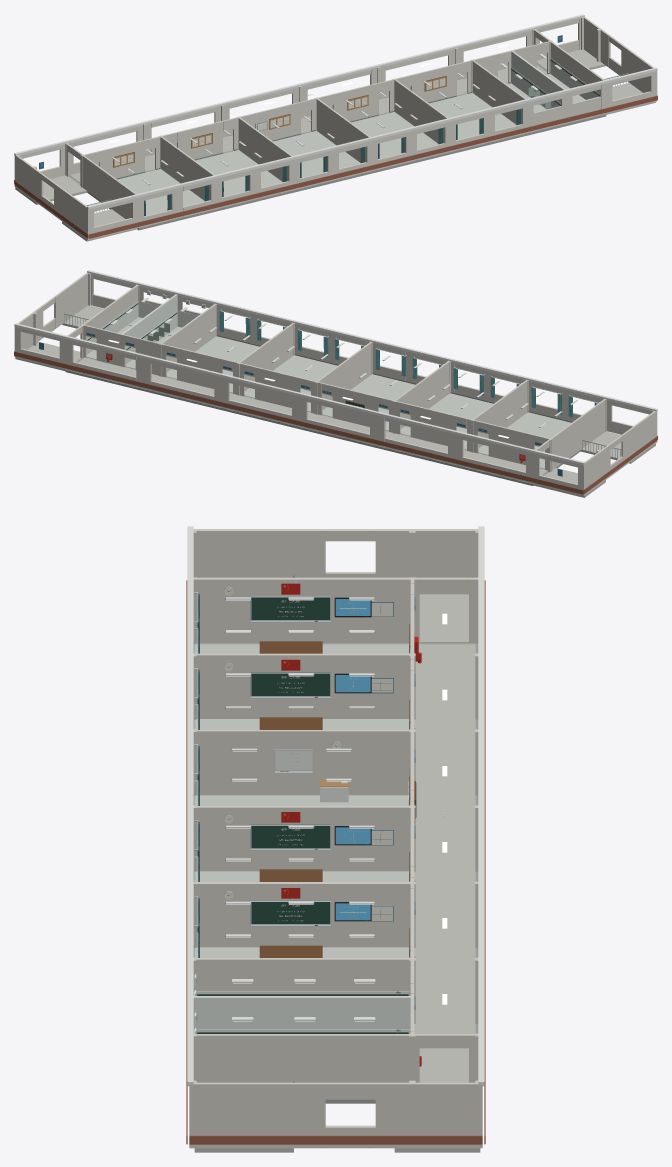
File: floor-05.glb
The picture shows the model from 3 angles, top to bottom: view 1: azimuth 30°, elevation 25°; view 2: azimuth 150°, elevation 25°; view 3: azimuth 270°, elevation 25°; orthographic projection. The views are drawn at different scales.
Visible parts, largest first — view 1: Floor_05__Plaster_WarmLimestone, Floor_05__tile_floor, Floor_05__Paint_OffWhite, Floor_05__Terracotta_FiredClay, Floor_05__terrazzo, Floor_05__tile_wall, Floor_05__Concrete_FineCast, Floor_05__Fabric_Teal, Floor_05__Paper_Cream, Floor_05__Wood_Honey, Floor_05__Paint_Slate; view 2: Floor_05__Plaster_WarmLimestone, Floor_05__tile_floor, Floor_05__Paint_OffWhite, Floor_05__terrazzo, Floor_05__Terracotta_FiredClay, Floor_05__tile_wall, Floor_05__Concrete_FineCast, Floor_05__Fabric_Teal, Floor_05__Paint_Slate, Floor_05__Blue_School; view 3: Floor_05__Plaster_WarmLimestone, Floor_05__terrazzo, Floor_05__Paint_OffWhite, Floor_05__tile_wall, Floor_05__tile_floor, Floor_05__Chalkboard_Green, Floor_05__Terracotta_FiredClay, Floor_05__Wood_Walnut, Floor_05__Metal_BrushedNickel, Floor_05__Screen_LCD, Floor_05__Paper_Cream, Floor_05__Paint_Slate (+3 smaller).
Boxes of the visible parts, left/top/right/bottom form: Floor_05__Plaster_WarmLimestone: left=14, top=17, right=657, bottom=240; Floor_05__tile_floor: left=117, top=74, right=585, bottom=215; Floor_05__Paint_OffWhite: left=14, top=14, right=657, bottom=209; Floor_05__Terracotta_FiredClay: left=14, top=95, right=657, bottom=238; Floor_05__terrazzo: left=15, top=49, right=655, bottom=241; Floor_05__tile_wall: left=511, top=50, right=599, bottom=109; Floor_05__Concrete_FineCast: left=69, top=63, right=606, bottom=230; Floor_05__Fabric_Teal: left=144, top=109, right=520, bottom=215; Floor_05__Paper_Cream: left=114, top=78, right=445, bottom=165; Floor_05__Wood_Honey: left=113, top=76, right=446, bottom=167; Floor_05__Paint_Slate: left=116, top=73, right=549, bottom=185; Floor_05__Plaster_WarmLimestone: left=14, top=272, right=657, bottom=495; Floor_05__tile_floor: left=86, top=317, right=571, bottom=468; Floor_05__Paint_OffWhite: left=14, top=270, right=657, bottom=465; Floor_05__terrazzo: left=15, top=305, right=655, bottom=497; Floor_05__Terracotta_FiredClay: left=14, top=351, right=657, bottom=494; Floor_05__tile_wall: left=86, top=294, right=198, bottom=364; Floor_05__Concrete_FineCast: left=65, top=357, right=580, bottom=485; Floor_05__Fabric_Teal: left=219, top=311, right=597, bottom=417; Floor_05__Paint_Slate: left=86, top=292, right=572, bottom=452; Floor_05__Blue_School: left=39, top=332, right=562, bottom=476; Floor_05__Plaster_WarmLimestone: left=189, top=529, right=482, bottom=1148; Floor_05__terrazzo: left=194, top=594, right=480, bottom=1152; Floor_05__Paint_OffWhite: left=187, top=526, right=484, bottom=1086; Floor_05__tile_wall: left=193, top=991, right=412, bottom=1033; Floor_05__tile_floor: left=194, top=644, right=408, bottom=957; Floor_05__Chalkboard_Green: left=197, top=597, right=416, bottom=1033; Floor_05__Terracotta_FiredClay: left=186, top=580, right=485, bottom=1144; Floor_05__Wood_Walnut: left=259, top=620, right=415, bottom=957; Floor_05__Metal_BrushedNickel: left=194, top=586, right=341, bottom=957; Floor_05__Screen_LCD: left=335, top=599, right=370, bottom=920; Floor_05__Paper_Cream: left=224, top=587, right=408, bottom=920; Floor_05__Paint_Slate: left=193, top=596, right=410, bottom=1033.
Bounding box in the file's own units: 62.87 × 3.78 × 14.31.
